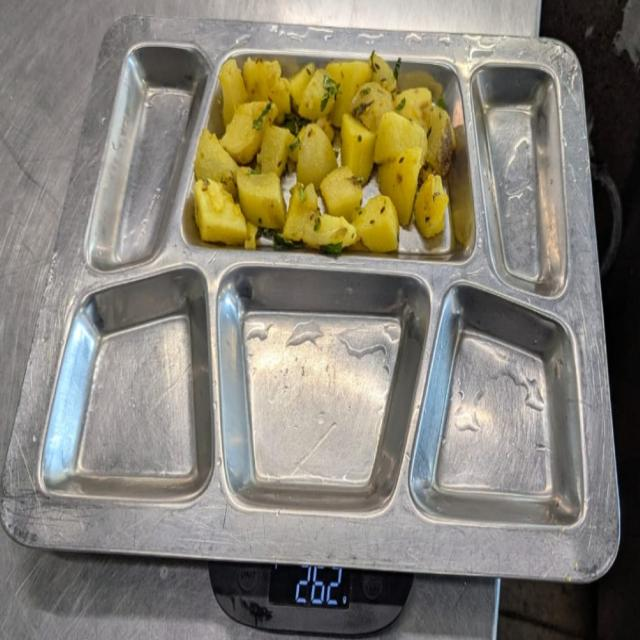Aloo Sabji: (193, 54, 457, 253)
